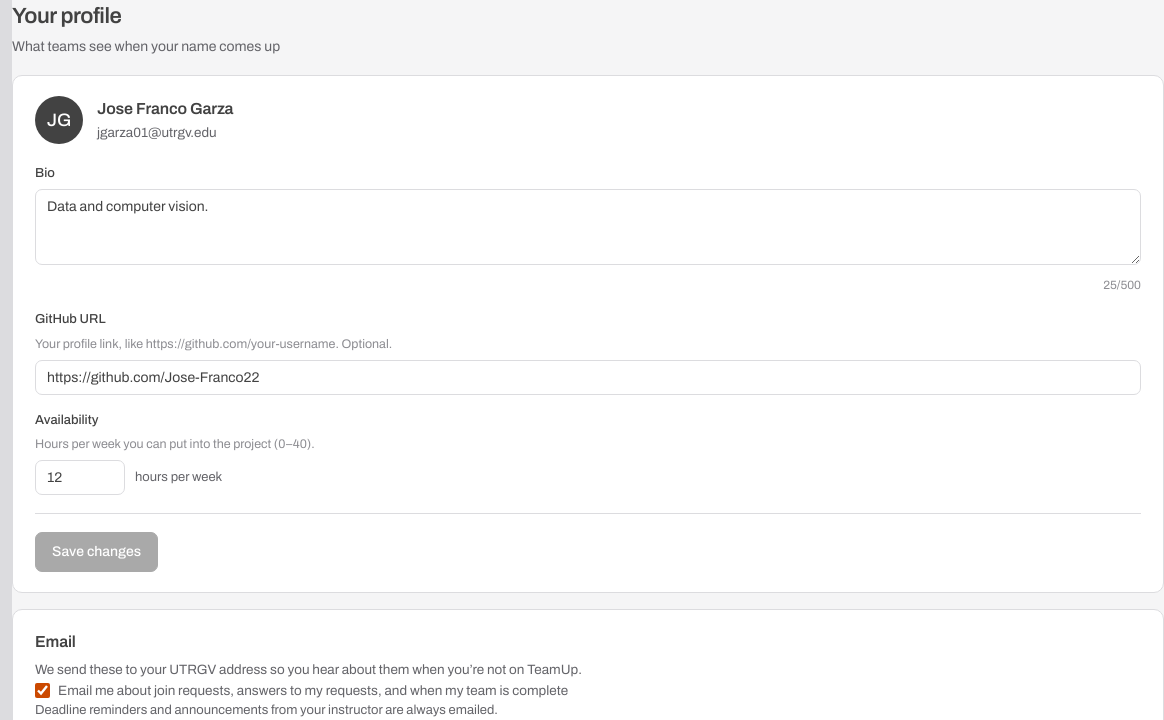
GitHub URL › clearing the link is allowed
Expected: the heading "Your profile" is shown, [12, 4, 121, 28]
Clear the field labelled "GitHub URL" at (588, 377), box [35, 360, 1141, 395]
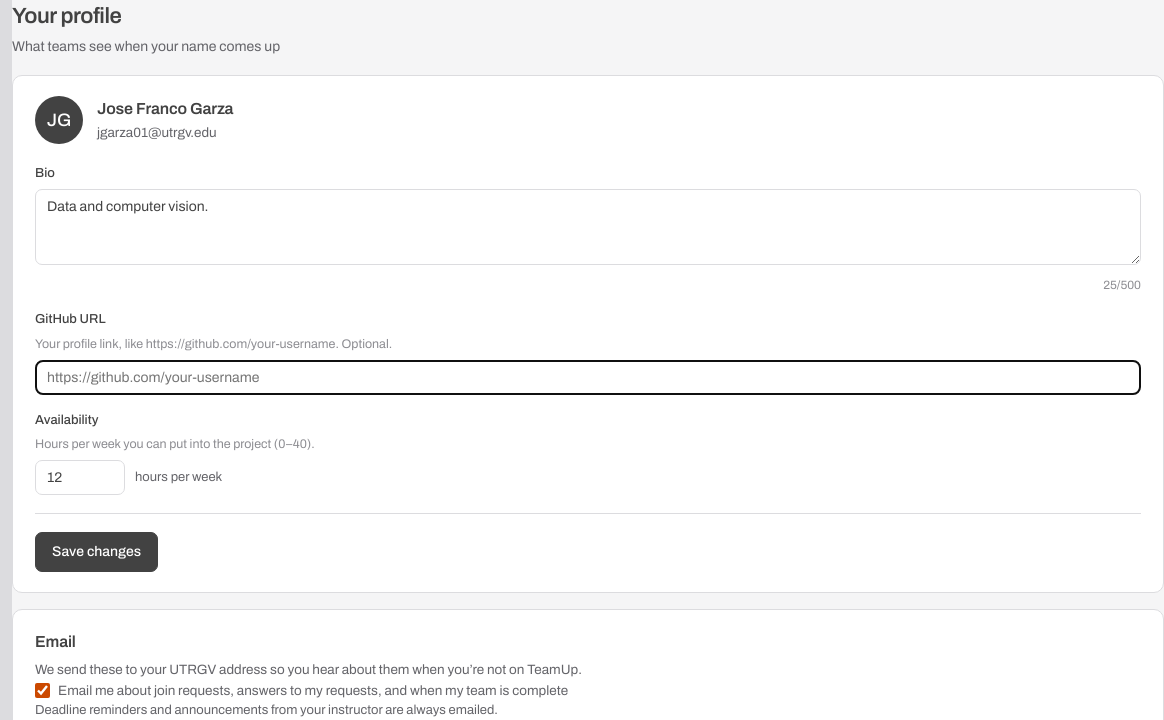
Expected: the button "Save changes" is enabled, [35, 532, 158, 572]
